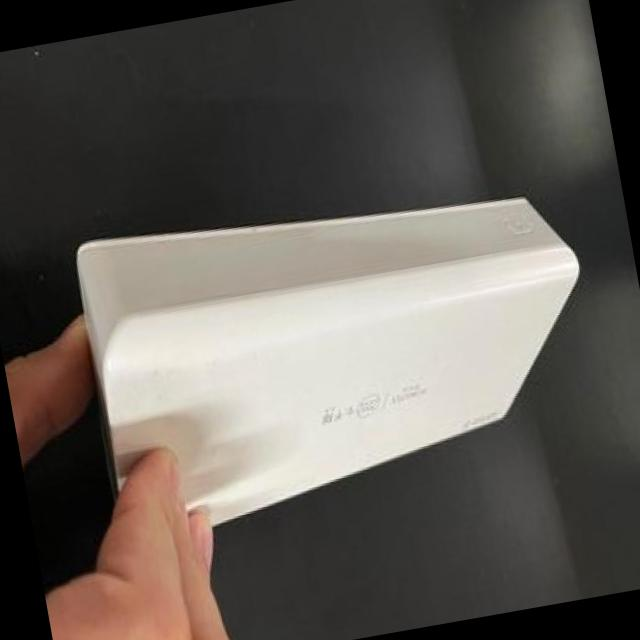power_bank: (61, 151, 630, 579)
